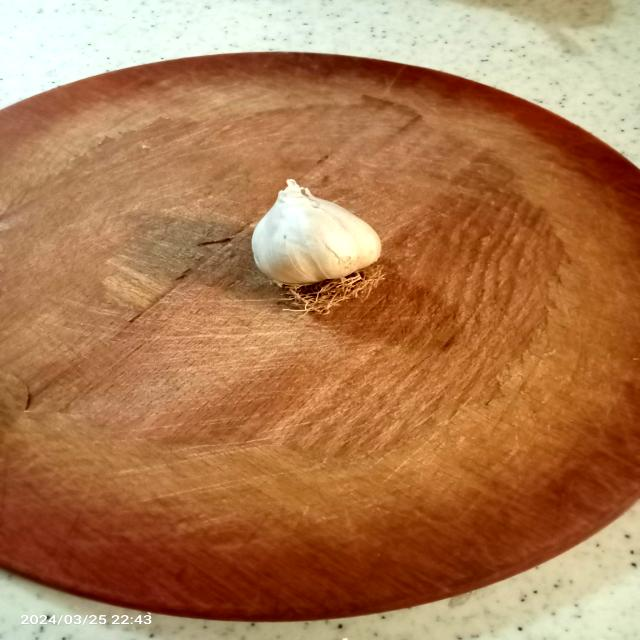garlic: (240, 175, 399, 316)
